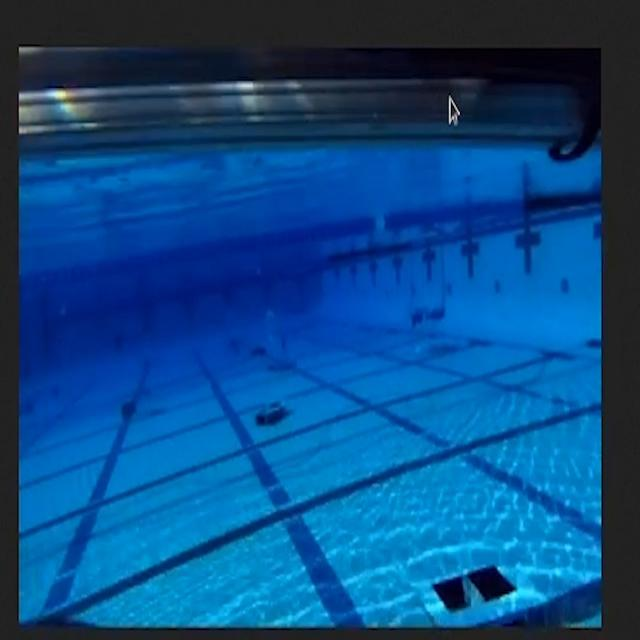Bin: (408, 548, 552, 632)
